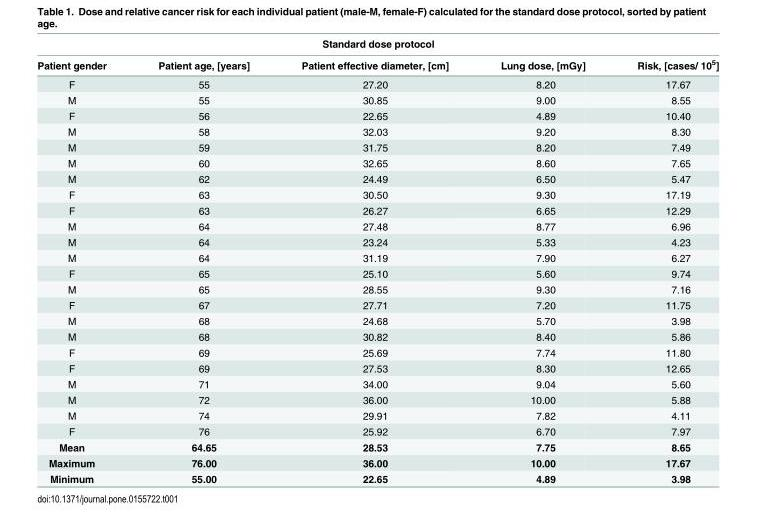table: (36, 37, 718, 484)
table column: (274, 37, 473, 484), (131, 37, 274, 484), (473, 37, 610, 484), (610, 37, 718, 484), (36, 37, 131, 484)
table column header: (36, 37, 718, 74)
table row: (36, 53, 718, 74), (36, 74, 718, 91), (36, 37, 718, 53), (36, 91, 718, 107), (36, 107, 718, 123), (36, 123, 718, 139), (36, 154, 718, 170), (36, 170, 718, 186), (36, 186, 718, 202), (36, 217, 718, 233), (36, 233, 718, 249), (36, 249, 718, 265), (36, 265, 718, 281), (36, 296, 718, 312), (36, 312, 718, 328), (36, 328, 718, 344), (36, 359, 718, 375), (36, 375, 718, 391), (36, 391, 718, 407), (36, 407, 718, 423), (36, 438, 718, 454), (36, 454, 718, 470), (36, 139, 718, 154), (36, 202, 718, 217), (36, 281, 718, 296), (36, 344, 718, 359), (36, 423, 718, 438), (36, 470, 718, 484)
table spanning cell: (36, 37, 718, 53)
